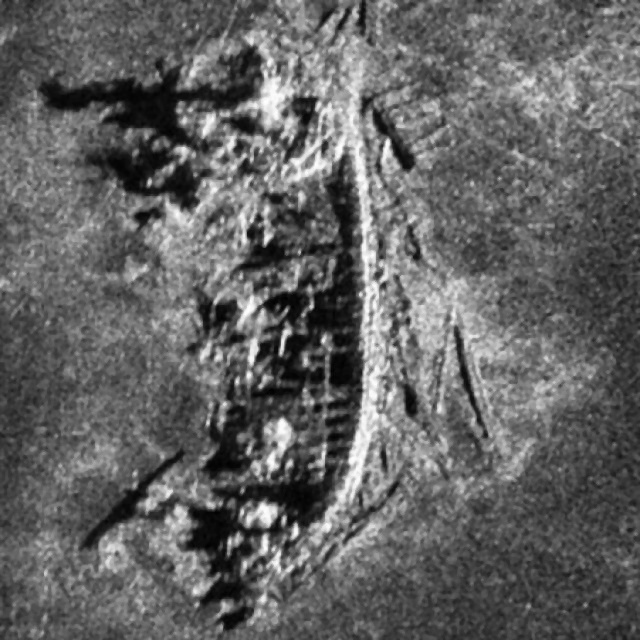Ship: (147, 19, 433, 637)
